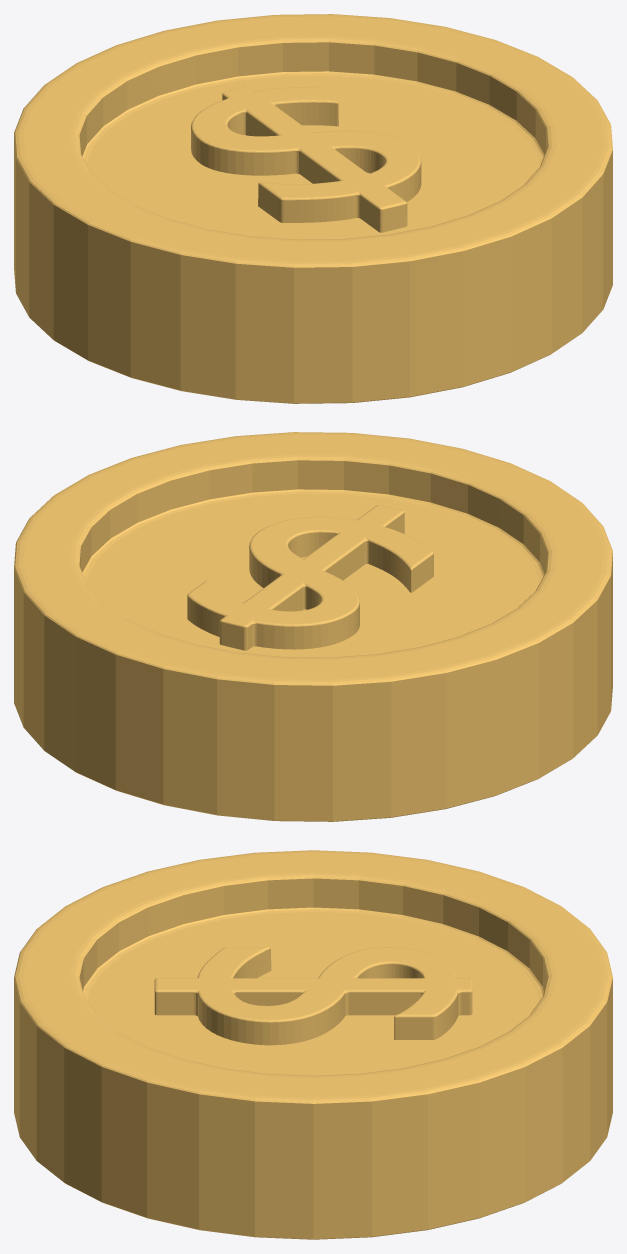
3 renders of one model, top to bottom at view 1: azimuth 30°, elevation 25°; view 2: azimuth 150°, elevation 25°; view 3: azimuth 270°, elevation 25°, orthographic.
Visible parts, largest first — view 1: 文本; view 2: 文本; view 3: 文本.
Part boxes in pixels (left/top/right/bottom): 文本: left=14, top=14, right=612, bottom=403; 文本: left=14, top=432, right=612, bottom=821; 文本: left=14, top=850, right=612, bottom=1239.
Size of the model in its own units: 400 by 103 by 400.
